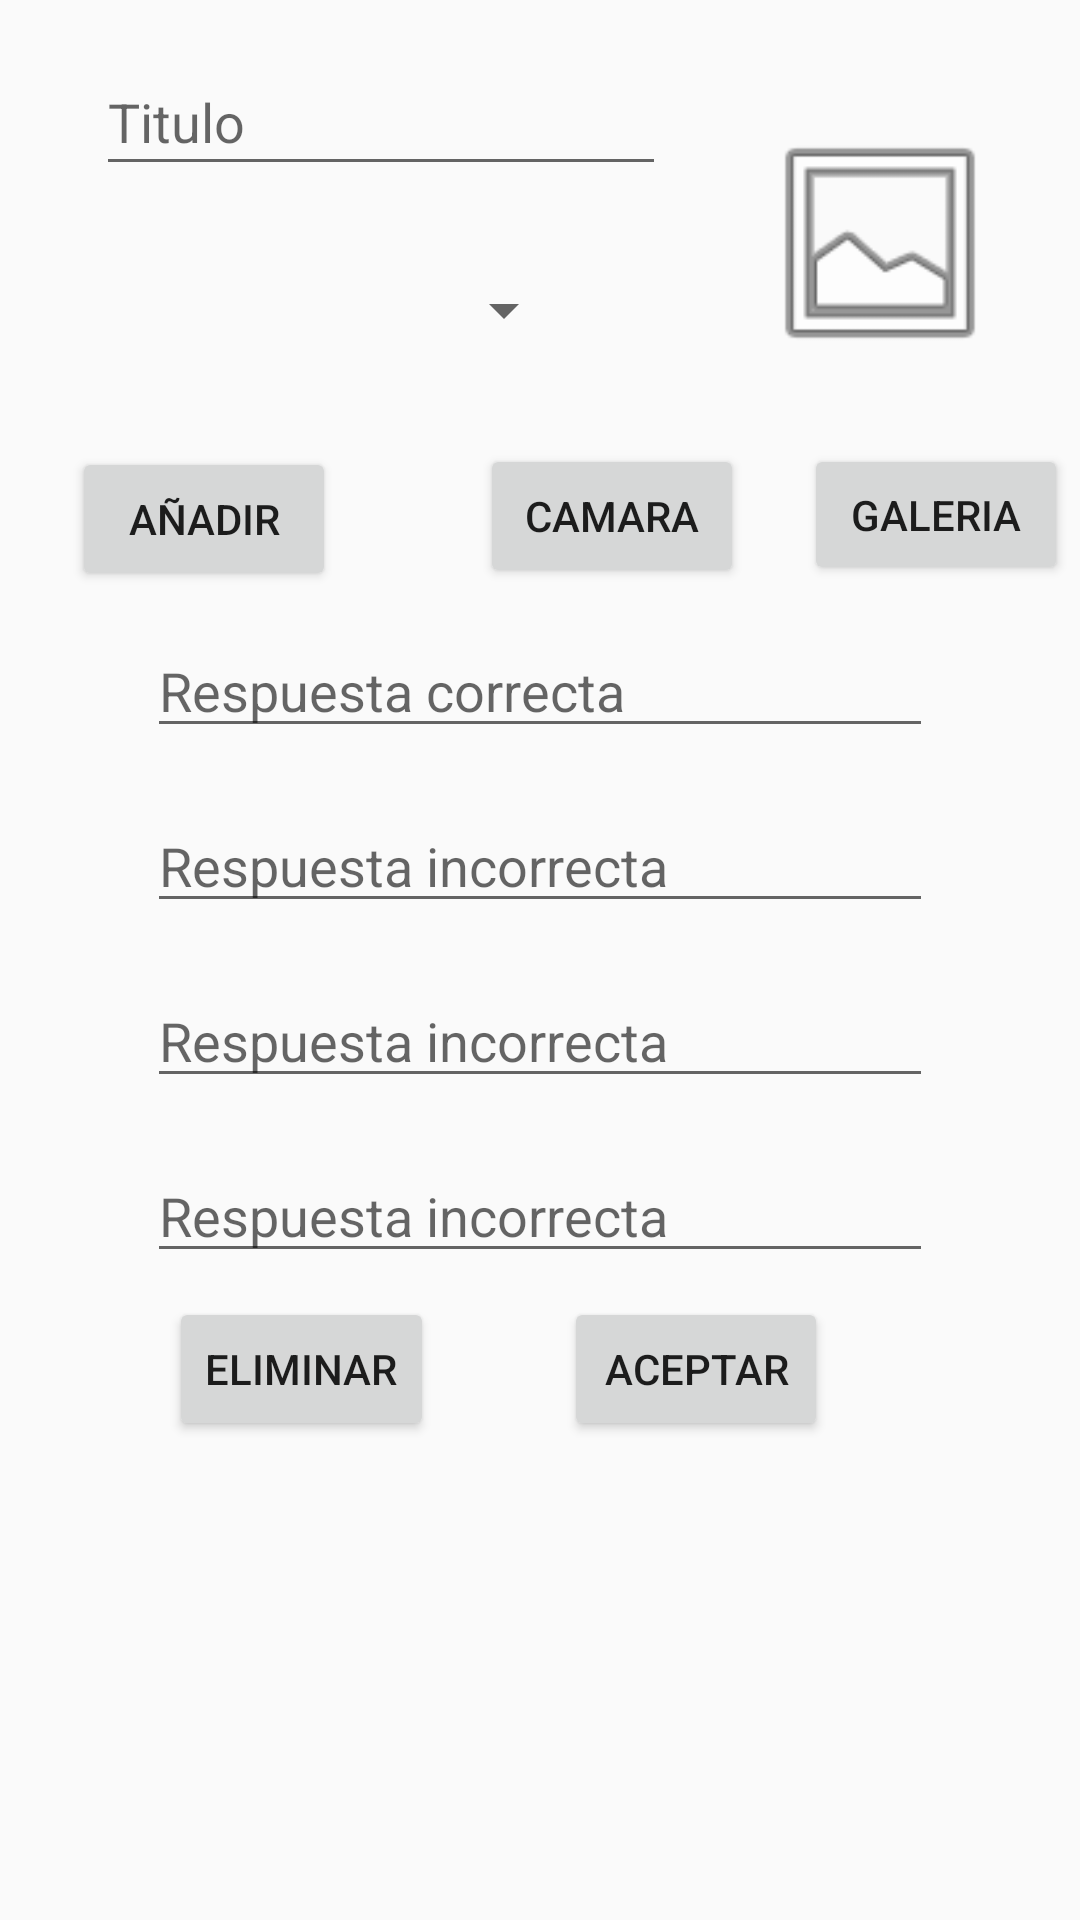

Screen size 1080px×1920px. Icon name, then its box in pixels as Rect(x1, y1, x2, y2):
gallery: Rect(785, 148, 975, 338)
